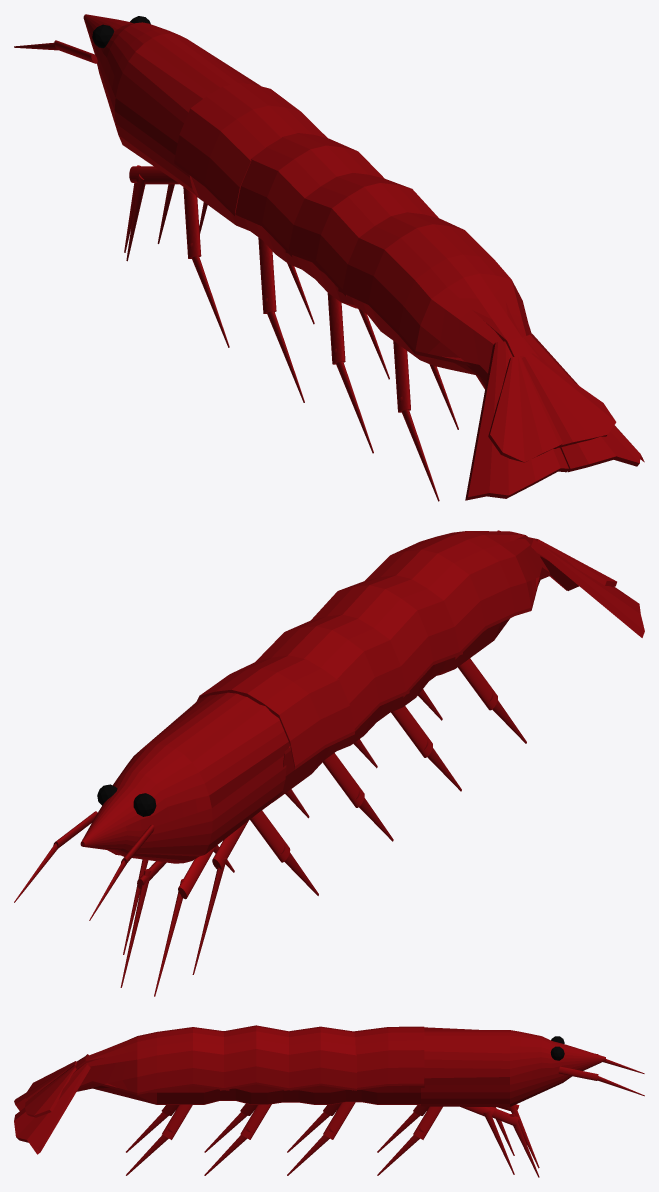
The model's file is shrimp.gltf.
3 views of the same model, one above another, from view 1: azimuth 30°, elevation 25°; view 2: azimuth 150°, elevation 25°; view 3: azimuth 270°, elevation 25° (orthographic). The views are drawn at different scales.
Parts seen in each view (by area): view 1: shell_4, tail, head, shell_1, shell_3, shell_2, Bacl_Leg_ALL, body, flont_Leg_Left_"; view 2: head, shell_4, shell_1, shell_3, shell_2, Bacl_Leg_ALL, tail, body, frontLeg_Left, flont_Leg_Left_", front_Leg_Right, eye_all (+1 smaller); view 3: head, shell_4, body, Bacl_Leg_ALL, shell_1, shell_2, shell_3, tail, front_Leg_Right, front_Leg_Right_2, beaed_1, frontLeg_Left (+1 smaller).
Part boxes in pixels (x1,y1,x2,y2): shell_4: [338, 212, 531, 381]; tail: [465, 334, 644, 500]; head: [83, 14, 260, 197]; shell_1: [174, 83, 327, 215]; shell_3: [285, 173, 438, 296]; shell_2: [235, 133, 384, 256]; Bacl_Leg_ALL: [183, 187, 486, 501]; body: [191, 177, 475, 374]; flont_Leg_Left_": [126, 168, 179, 261]; head: [80, 692, 289, 863]; shell_4: [365, 531, 549, 659]; shell_1: [196, 655, 354, 769]; shell_3: [311, 575, 462, 697]; shell_2: [255, 614, 409, 731]; Bacl_Leg_ALL: [213, 658, 526, 895]; tail: [497, 530, 644, 637]; body: [272, 618, 510, 802]; frontLeg_Left: [154, 846, 216, 996]; flont_Leg_Left_": [192, 820, 248, 974]; front_Leg_Right: [120, 861, 166, 987]; eye_all: [97, 784, 156, 816]; head: [421, 1027, 605, 1107]; shell_4: [75, 1027, 229, 1094]; body: [93, 1077, 424, 1104]; Bacl_Leg_ALL: [126, 1102, 442, 1175]; shell_1: [352, 1026, 424, 1090]; shell_2: [284, 1026, 356, 1090]; shell_3: [220, 1025, 292, 1090]; tail: [14, 1054, 90, 1154]; front_Leg_Right: [488, 1107, 539, 1177]; front_Leg_Right_2: [460, 1106, 514, 1174]; beaed_1: [558, 1066, 644, 1096]; frontLeg_Left: [497, 1104, 539, 1168].
Size of the model in its own units: 1.29 by 1.65 by 6.63.
